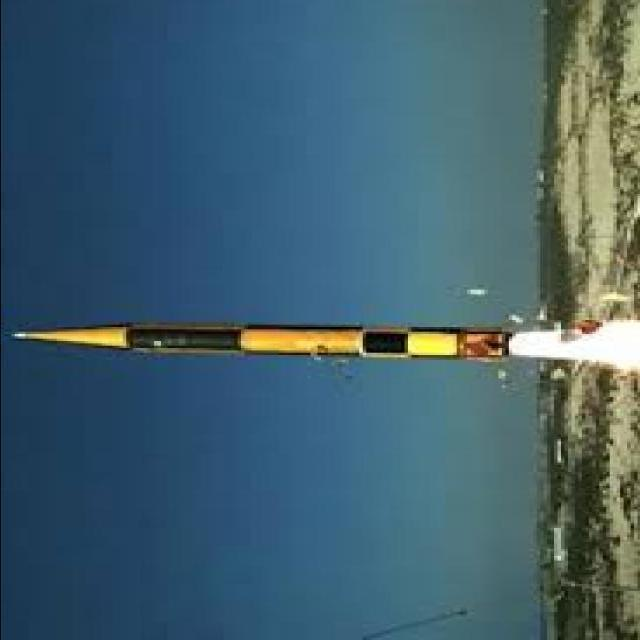missile: (10, 319, 512, 362)
